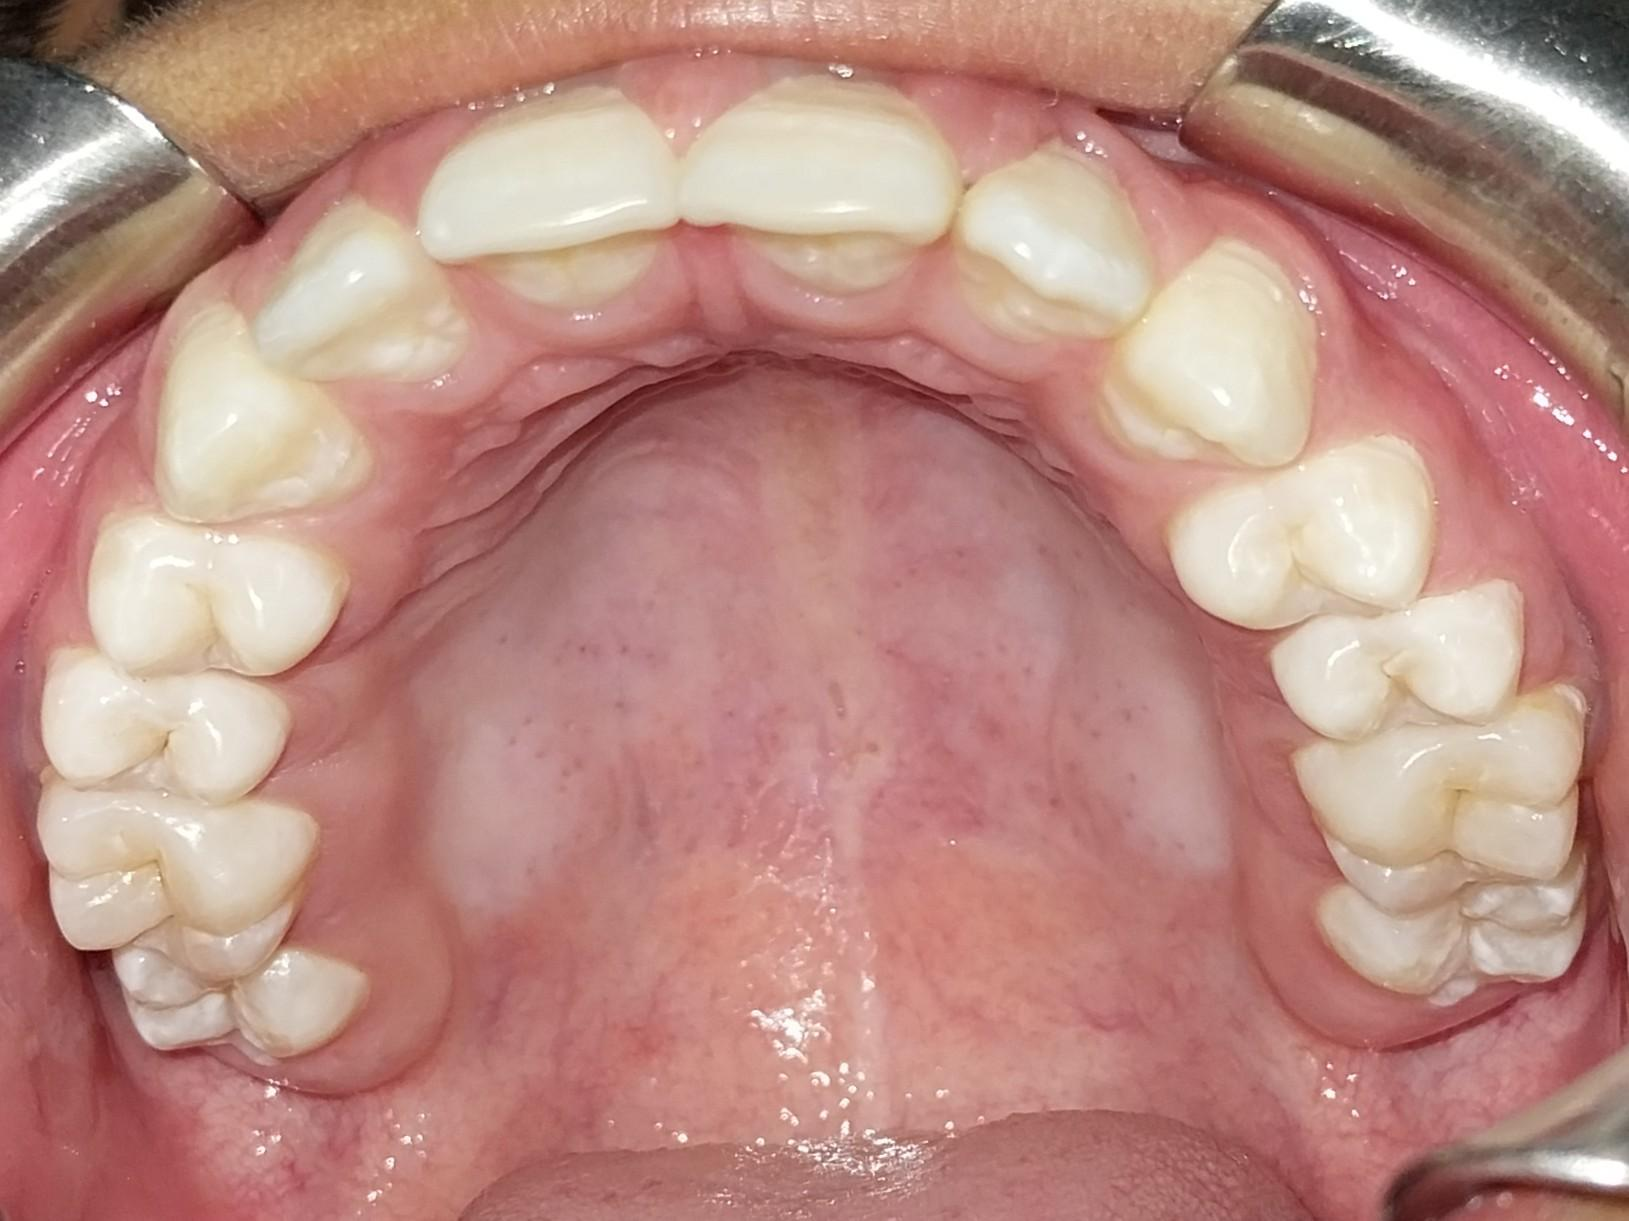D: (36, 649, 292, 800)
